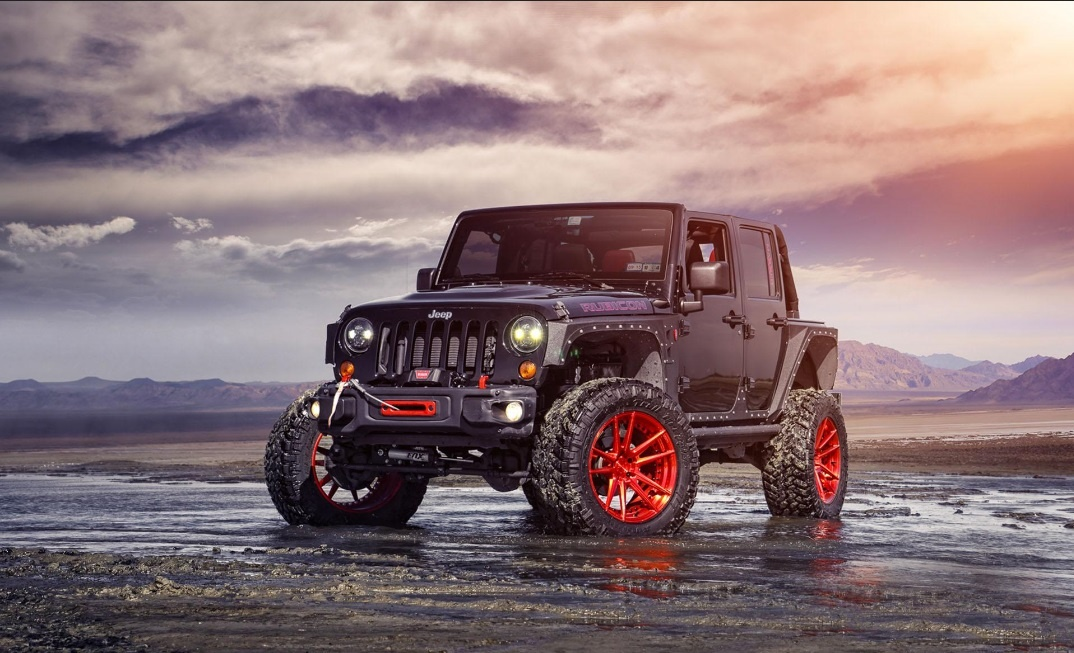jeep: (259, 187, 872, 529)
